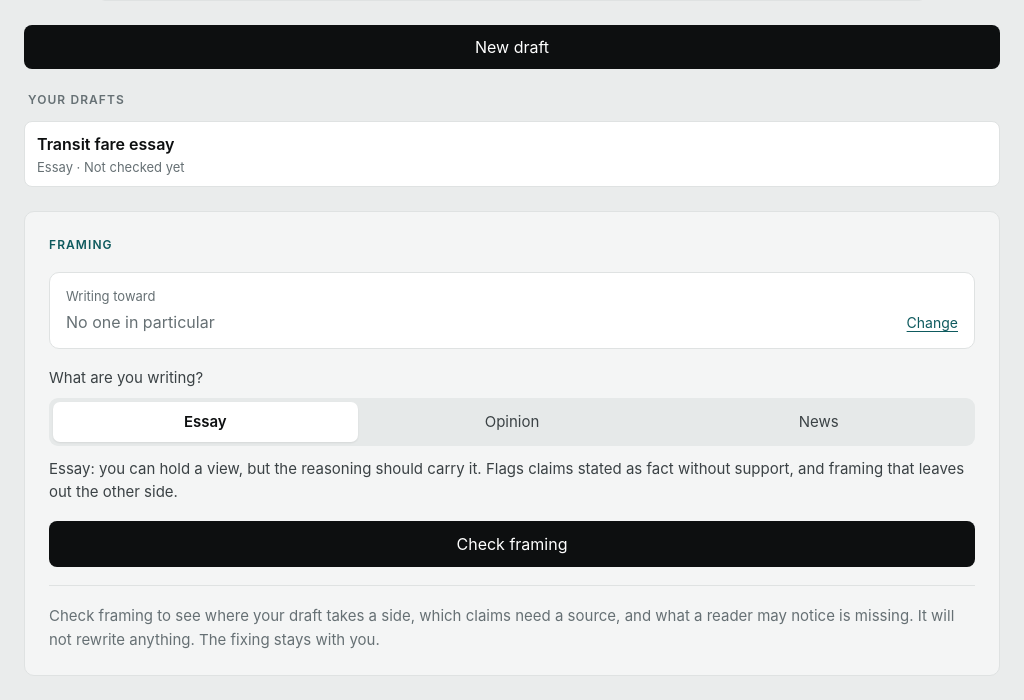
with drafts › deleting › deleting the last draft opens the setup card for a new one
(page scrolled)
Click the button "Change" at (932, 323), box [907, 312, 958, 334]
(page scrolled)
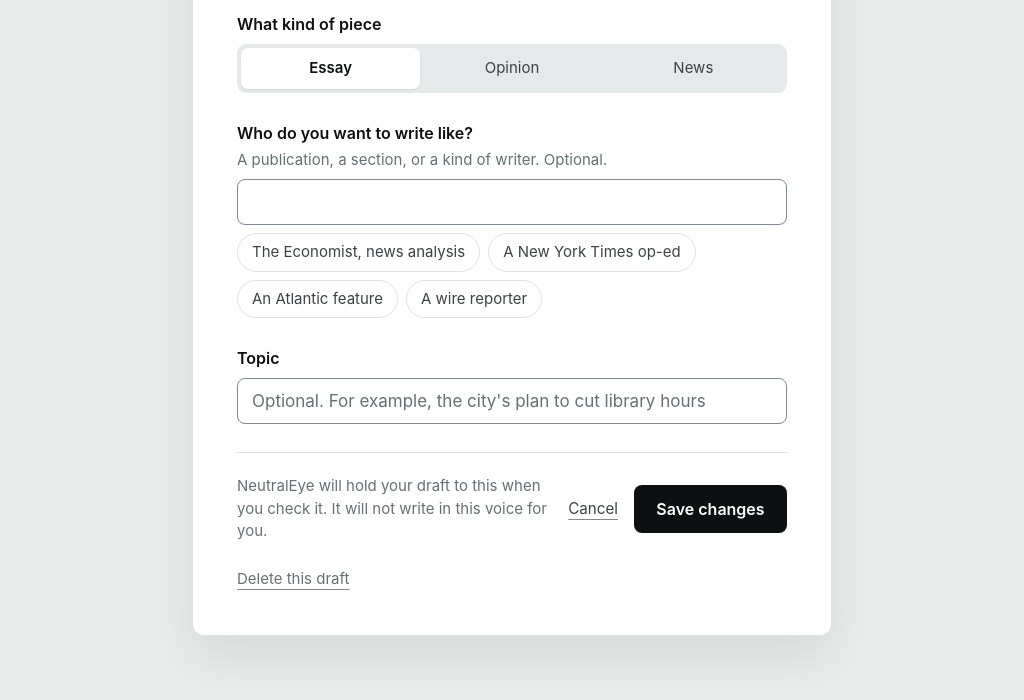
Click the button "Delete this draft" at (293, 579), box [237, 563, 349, 595]
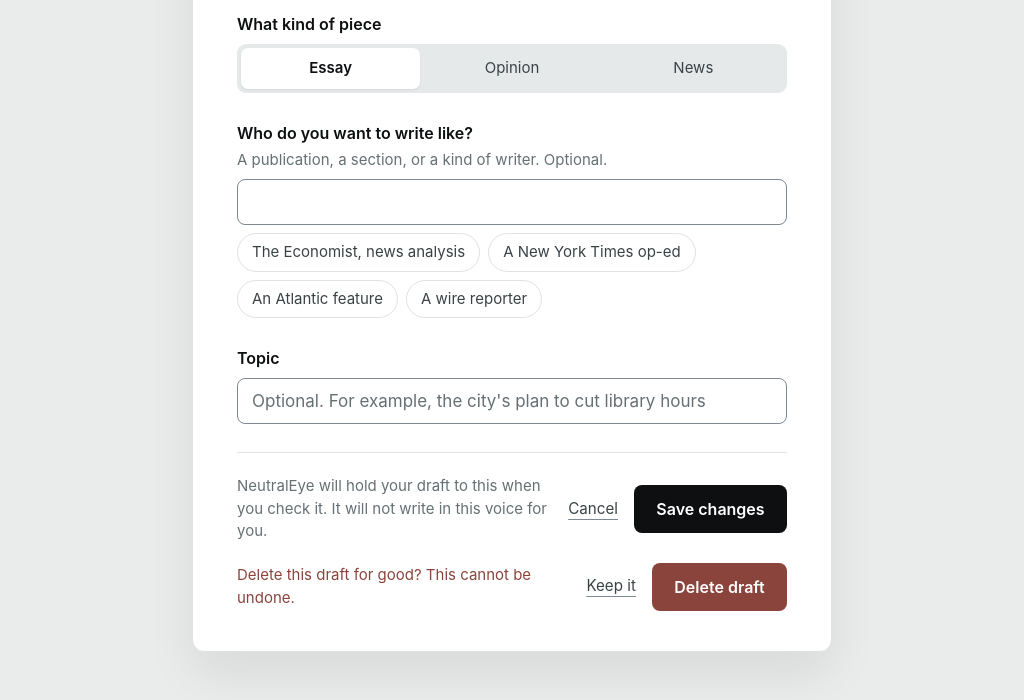
Click the button "Delete draft" at (719, 587), box [652, 563, 787, 611]
(page scrolled)
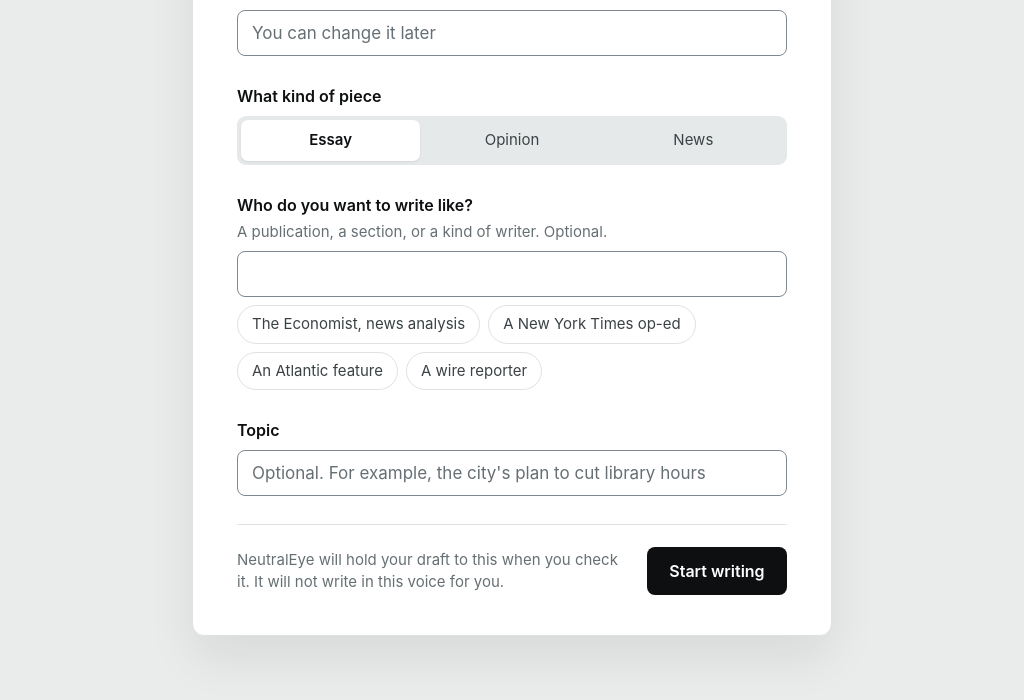
Check: the button "Start writing" is shown, box [647, 547, 787, 595]
Check: the button "Cancel" is gone
Check: the message "Delete this draft" is gone
